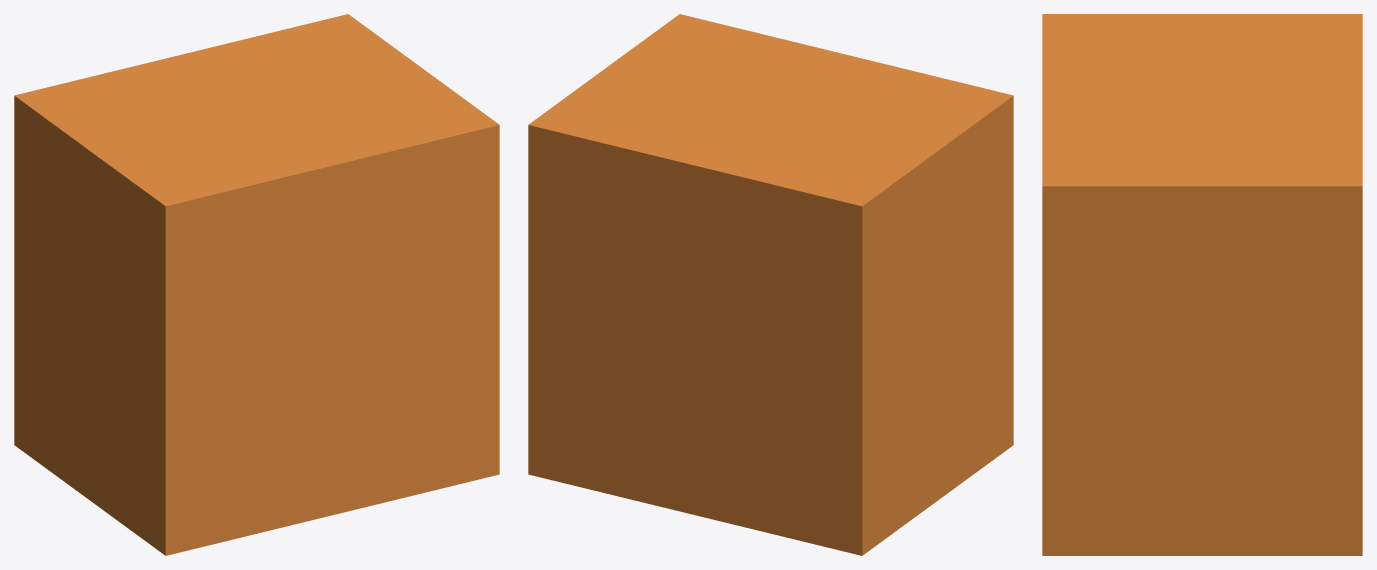
The model's file is amber.gltf.
3 views of the same model, side by side, from view 1: azimuth 30°, elevation 25°; view 2: azimuth 150°, elevation 25°; view 3: azimuth 270°, elevation 25° (orthographic). The views are drawn at different scales.
Parts seen in each view (by area): view 1: amber; view 2: amber; view 3: amber.
Part boxes in pixels (box(x1,y1,x2,y2)): amber: box(14, 14, 499, 555); amber: box(528, 14, 1013, 555); amber: box(1042, 14, 1362, 555).
Bounding box in the file's own units: 1.4 × 1.4 × 1.1.
